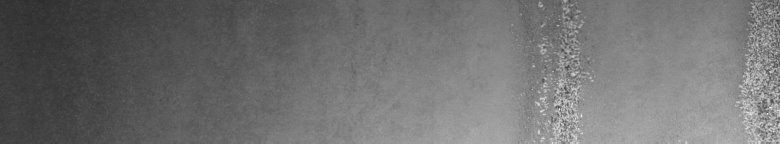hc: (735, 4, 776, 136)
